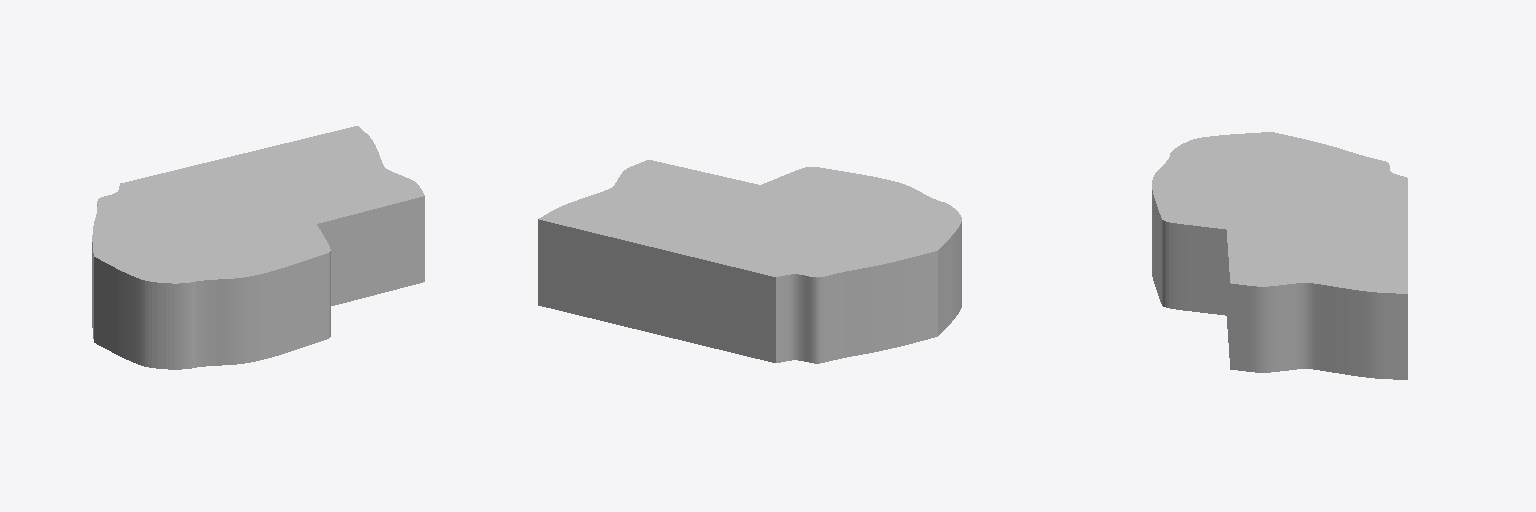
File: North_America_09.obj
3 views of the same model, side by side, from view 1: azimuth 30°, elevation 25°; view 2: azimuth 150°, elevation 25°; view 3: azimuth 270°, elevation 25° (orthographic).
Parts seen in each view (by area): view 1: North_America_09_path4184; view 2: North_America_09_path4184; view 3: North_America_09_path4184.
Part boxes in pixels (bbox=[...]): North_America_09_path4184: bbox=[92, 126, 424, 369]; North_America_09_path4184: bbox=[538, 160, 961, 363]; North_America_09_path4184: bbox=[1152, 132, 1407, 379].
Size of the model in its own units: 0.4037 by 0.1 by 0.2695.